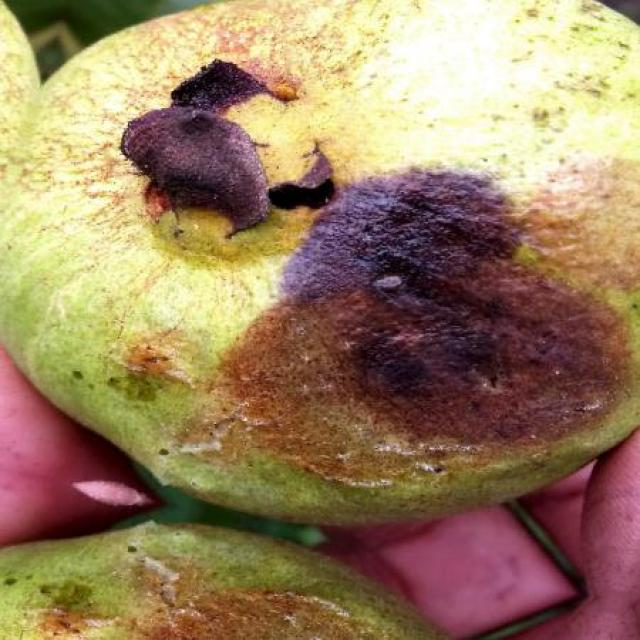Styler and Root: (0, 522, 448, 640)
